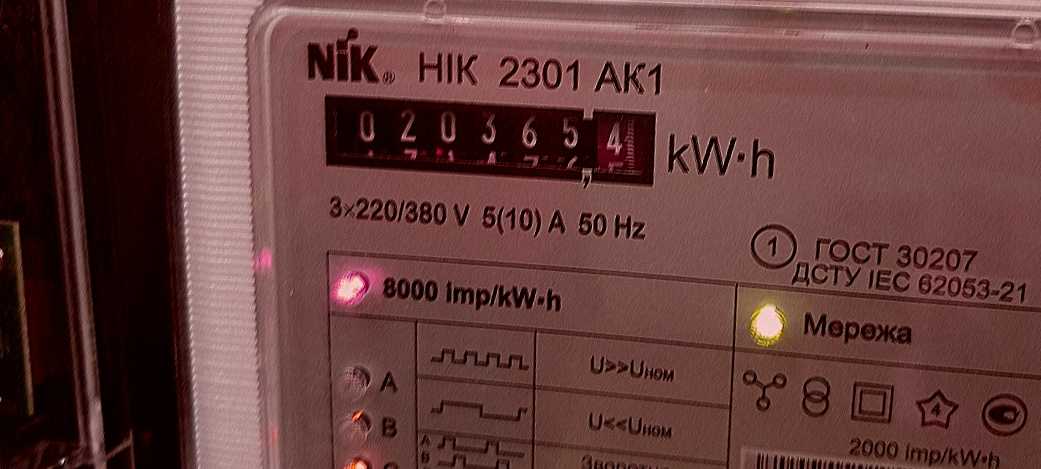0: (437, 107, 460, 145), (355, 107, 379, 143)
2: (395, 106, 421, 143)
3: (478, 108, 500, 145)
4: (604, 119, 626, 155)
5: (559, 115, 582, 149)
6: (518, 112, 541, 149)
screen: (302, 69, 679, 207)
